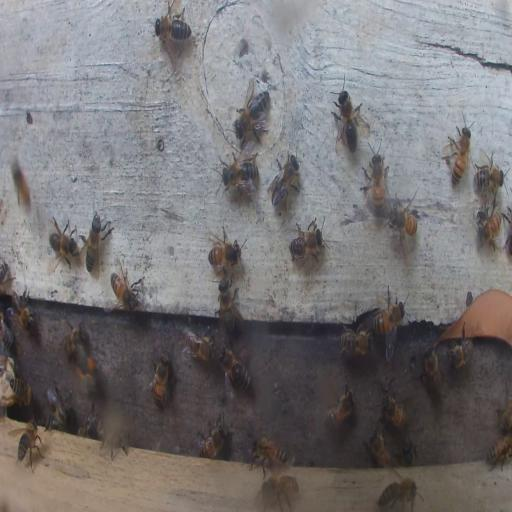bee: (332, 79, 365, 151), (234, 86, 270, 148), (206, 226, 244, 274), (268, 153, 301, 208), (385, 196, 419, 248), (154, 2, 192, 48), (363, 144, 387, 216), (84, 208, 110, 274), (289, 217, 325, 264), (448, 118, 472, 188), (473, 148, 505, 200), (48, 215, 80, 266), (218, 344, 250, 394), (15, 418, 43, 473), (323, 384, 355, 432), (372, 290, 404, 337), (248, 435, 289, 471), (109, 270, 143, 312), (218, 153, 257, 187), (196, 416, 226, 460), (378, 477, 420, 508), (217, 279, 241, 332), (45, 382, 71, 430), (182, 327, 216, 362), (380, 390, 408, 432), (366, 426, 394, 468), (147, 354, 169, 407), (75, 345, 98, 395), (422, 347, 443, 400), (476, 207, 504, 246), (445, 331, 473, 368), (339, 329, 372, 359), (264, 476, 298, 505), (12, 156, 30, 210), (10, 290, 34, 330), (486, 435, 512, 471), (64, 320, 88, 358), (100, 431, 128, 457), (77, 405, 99, 436), (496, 386, 510, 434), (7, 375, 30, 404), (1, 312, 15, 351), (403, 441, 417, 467), (0, 261, 9, 290), (386, 335, 394, 361)
